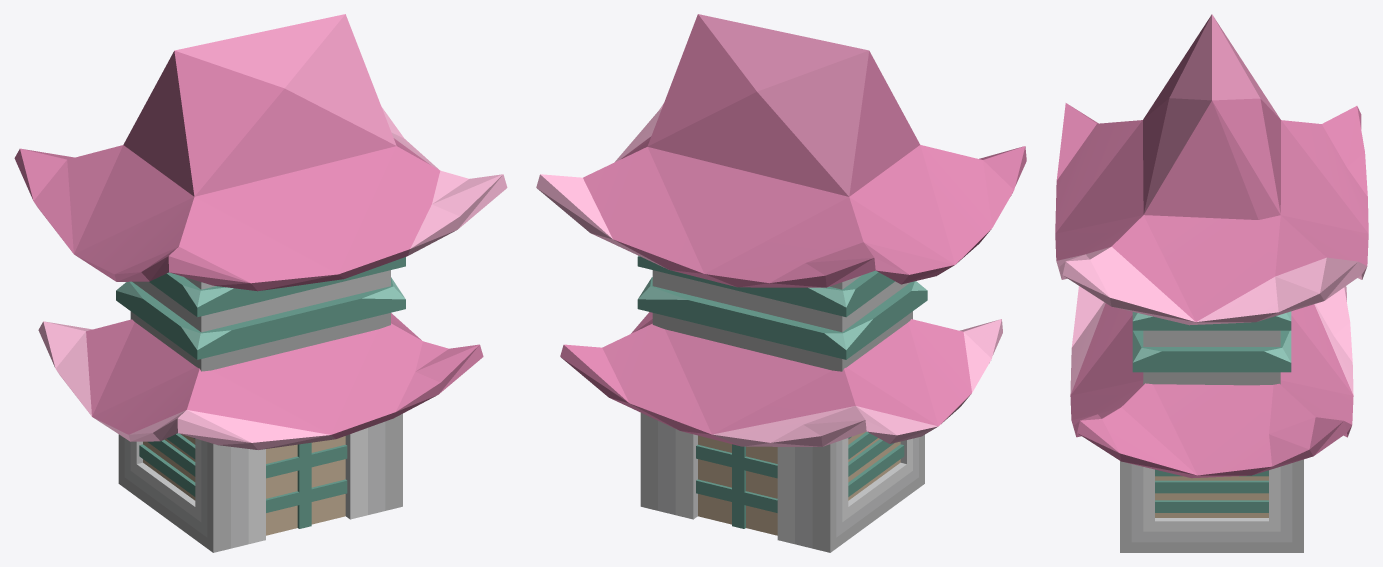
File: building_5.fbx
3 renders of one model, left to right at view 1: azimuth 30°, elevation 25°; view 2: azimuth 150°, elevation 25°; view 3: azimuth 270°, elevation 25°, orthographic. The views are drawn at different scales.
Parts seen in each view (by area): view 1: building_5; view 2: building_5; view 3: building_5.
Boxes of the visible parts, x1,y1,x2,y2 form: building_5: [14, 14, 507, 552]; building_5: [536, 14, 1026, 552]; building_5: [1055, 14, 1368, 552].
Size of the model in its own units: 706 by 873 by 548.
